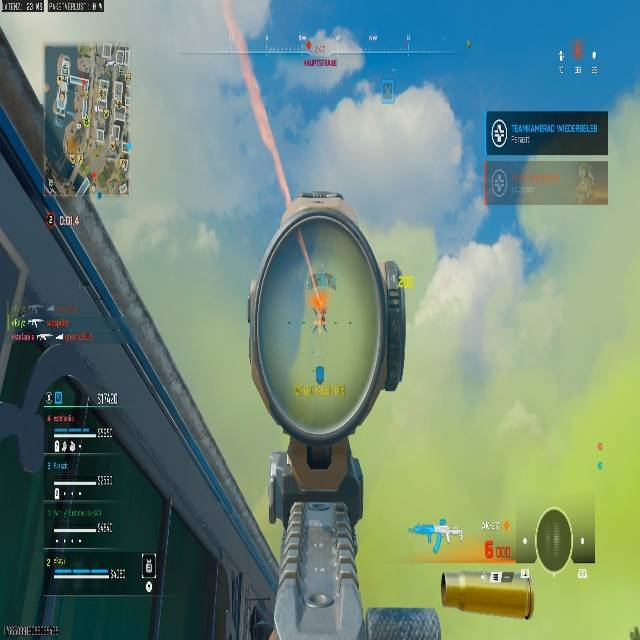player: (310, 294, 328, 335)
